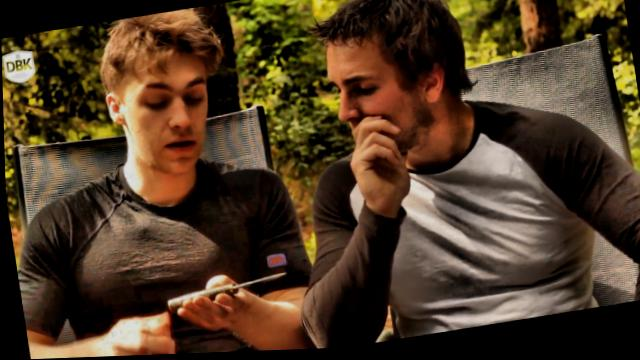knife: (156, 261, 302, 328)
